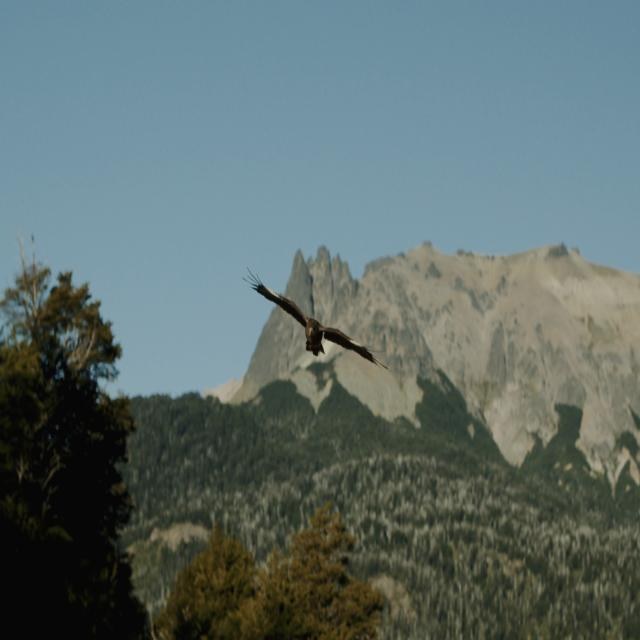bird: (241, 260, 381, 376)
